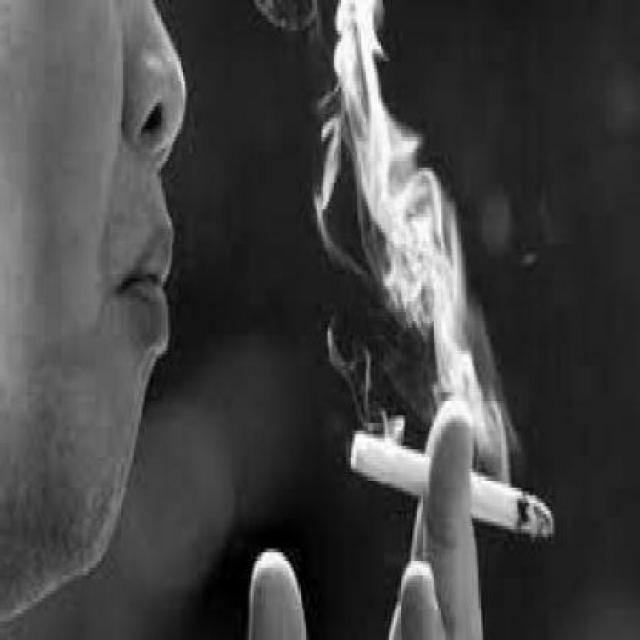cigarette: (349, 412, 560, 545)
